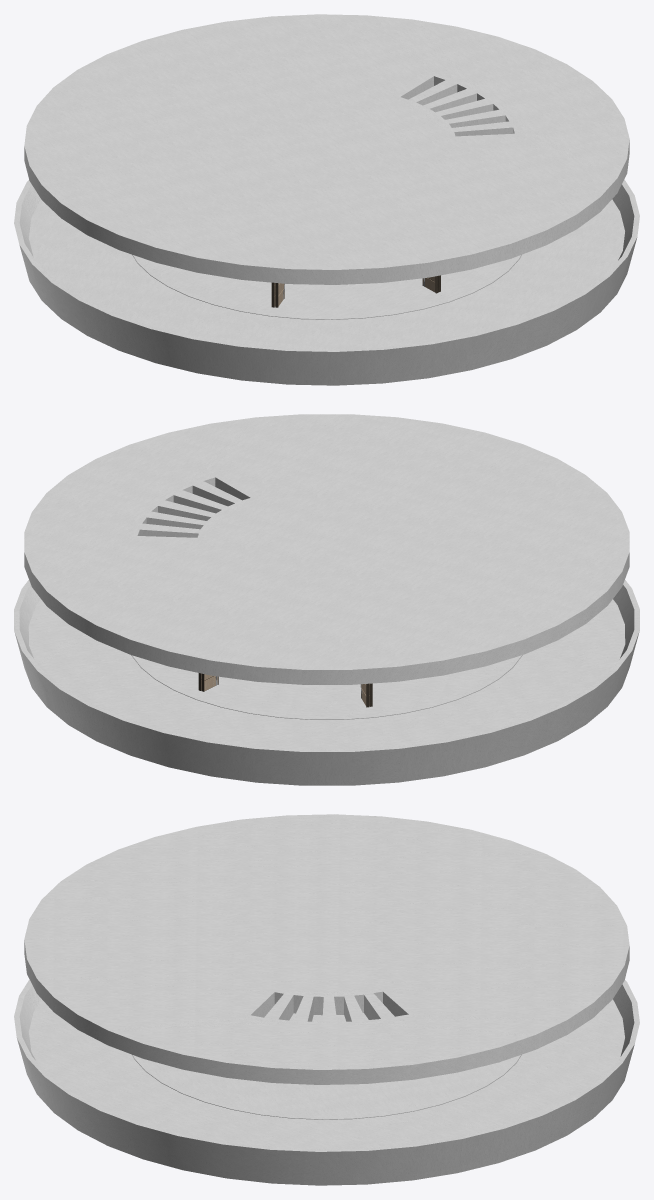
3 views of the same model, one above another, from view 1: azimuth 30°, elevation 25°; view 2: azimuth 150°, elevation 25°; view 3: azimuth 270°, elevation 25° (orthographic).
Visible parts, largest first — view 1: 1; view 2: 1; view 3: 1.
Boxes of the visible parts, box(x1,y1,x2,y2) form: 1: box(14, 14, 639, 385); 1: box(14, 414, 639, 785); 1: box(14, 814, 639, 1185).
Size of the model in its own units: 27.41 by 5.58 by 27.41.
Materials: 8 (7 with a texture image).
